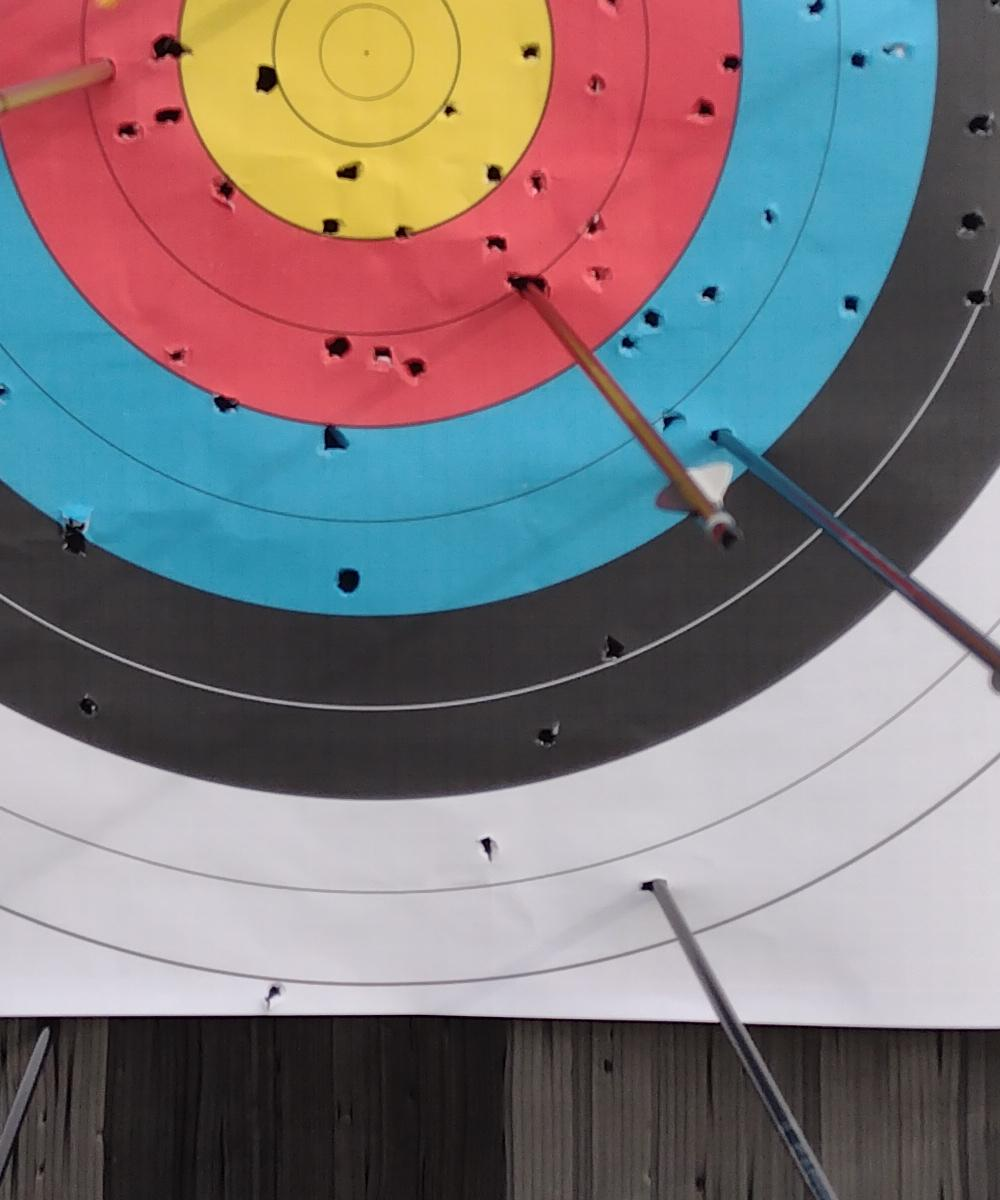10-Ring: (274, 0, 460, 146)
8-Ring: (86, 0, 647, 331)
9-Ring: (180, 0, 554, 241)
Arrow: (476, 281, 777, 565), (645, 879, 838, 1200)
